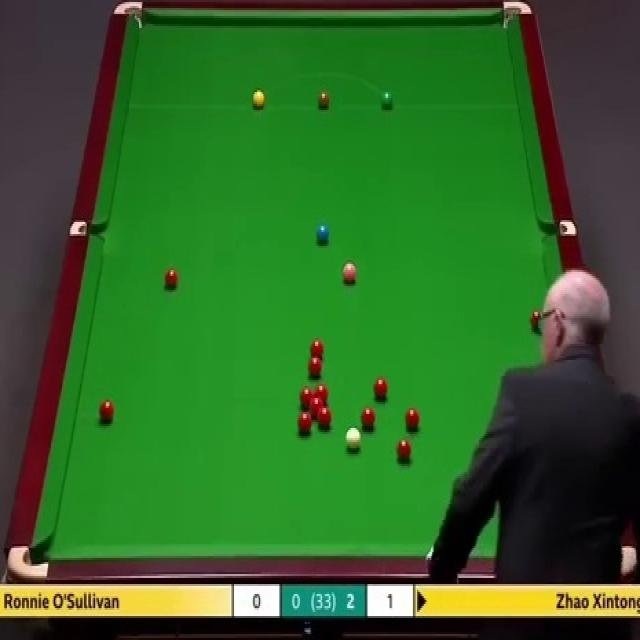pocket: (8, 546, 48, 574), (500, 0, 534, 32), (115, 1, 143, 28), (541, 220, 576, 240), (70, 221, 105, 237)
